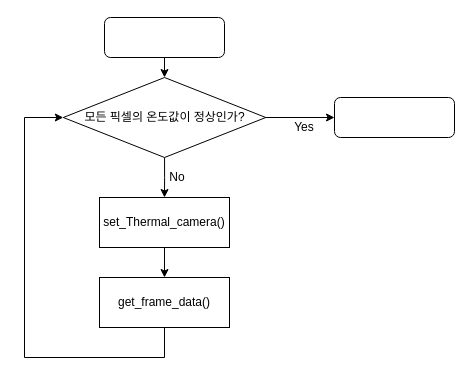
Some shapes in this 472 by 383 pixel diagram are drawn without their labels. Here are the shapes that lost their labels. From the top down, the centre of each, then its label:
At (x=164, y=37): "start".
At (x=394, y=117): "end".
